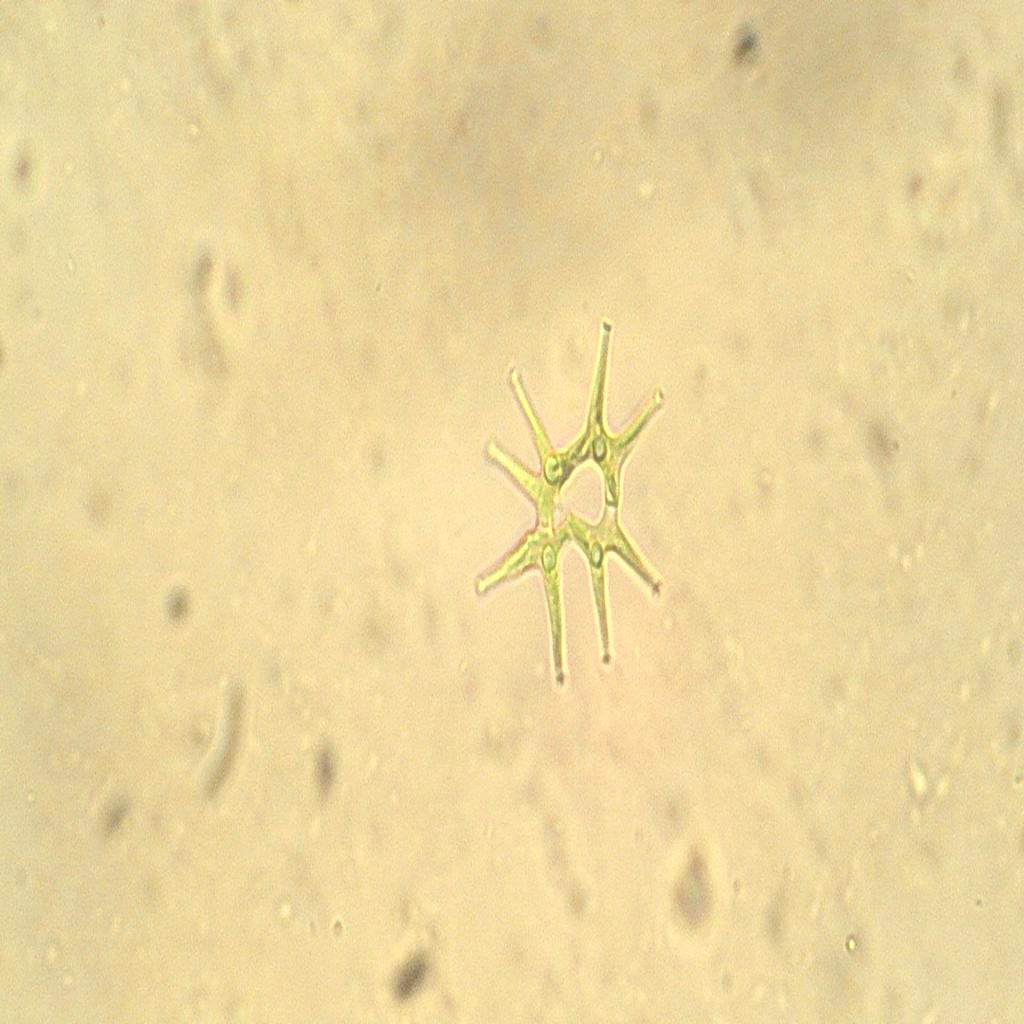Pediastrum_CF: (463, 292, 690, 720)
